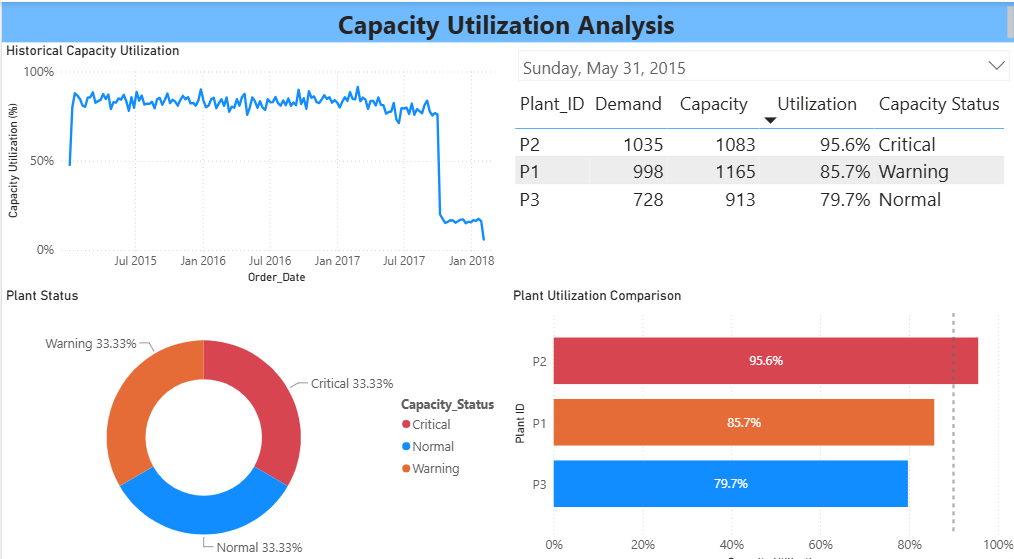

What the dashboard file says about the page in this screenshot:
{"tool":"powerbi","page":{"name":"Capacity Utilization Analysis","canvas":[1280,720],"ordinal":3},"visuals":[{"type":"textbox","box":[0,0,1279.5,51.5],"z":0},{"type":"tableEx","fields":{"Values":["capacity_utilization_weekly.Plant_ID","Sum(capacity_utilization_weekly.Weekly_Demand)","Sum(capacity_utilization_weekly.Weekly_Capacity)","Sum(capacity_utilization_weekly.Utilization)","capacity_utilization_weekly.Capacity_Status"]},"box":[640.6,105.8,638.7,253.2],"z":1000},{"type":"slicer","title":"Data Selection","fields":{"Values":["capacity_utilization_weekly.Order_Date"]},"box":[640.6,51,638.7,54.8],"z":2000},{"type":"lineChart","title":"Historical Capacity Utilization","fields":{"Y":["Avg(capacity_utilization_weekly.Utilization)"],"Category":["capacity_utilization_weekly.Order_Date"]},"box":[0,51,640.6,308],"z":3000},{"type":"barChart","title":"Plant Utilization Comparison","fields":{"Category":["capacity_utilization_weekly.Plant_ID"],"Y":["Avg(capacity_utilization_weekly.Utilization)"],"Series":["capacity_utilization_weekly.Capacity_Status"]},"box":[638.7,359.1,640.6,359.1],"z":4000},{"type":"donutChart","title":"Plant Status","fields":{"Y":["CountNonNull(capacity_utilization_weekly.Plant_ID)"],"Category":["capacity_utilization_weekly.Capacity_Status"]},"box":[0,359.1,640.6,359.1],"z":5000}]}

Visuals, with their boxes in screenshot pixels (x1, y1, x2, y2), scaled from the page's 1280x720 canvas onto the 1014x559 screenshot:
textbox: {"x1": 0, "y1": 0, "x2": 1013, "y2": 40}
tableEx - capacity_utilization_weekly.Plant_ID x Sum(capacity_utilization_weekly.Weekly_Demand): {"x1": 507, "y1": 82, "x2": 1013, "y2": 279}
"Data Selection" slicer: {"x1": 507, "y1": 40, "x2": 1013, "y2": 82}
"Historical Capacity Utilization" lineChart: {"x1": 0, "y1": 40, "x2": 507, "y2": 279}
"Plant Utilization Comparison" barChart: {"x1": 506, "y1": 279, "x2": 1013, "y2": 558}
"Plant Status" donutChart: {"x1": 0, "y1": 279, "x2": 507, "y2": 558}
